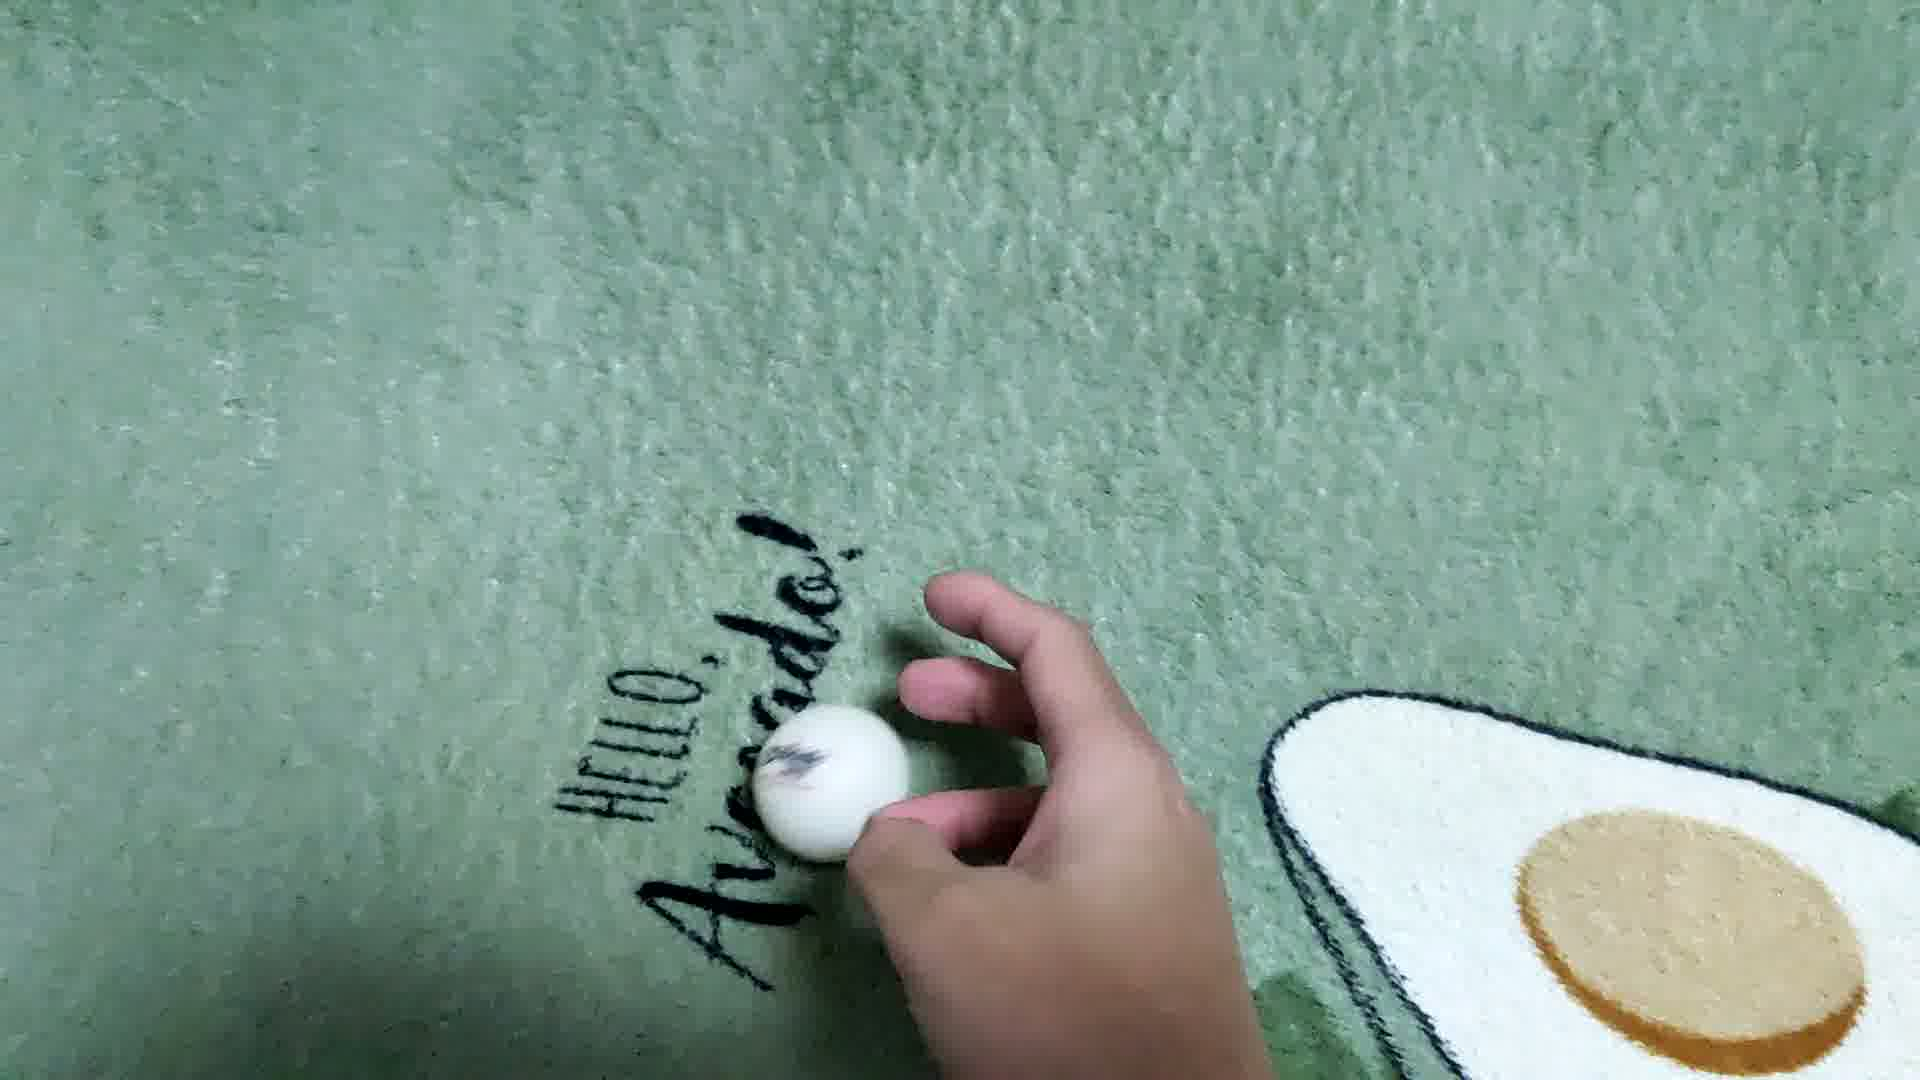Ball: (756, 703, 914, 869)
